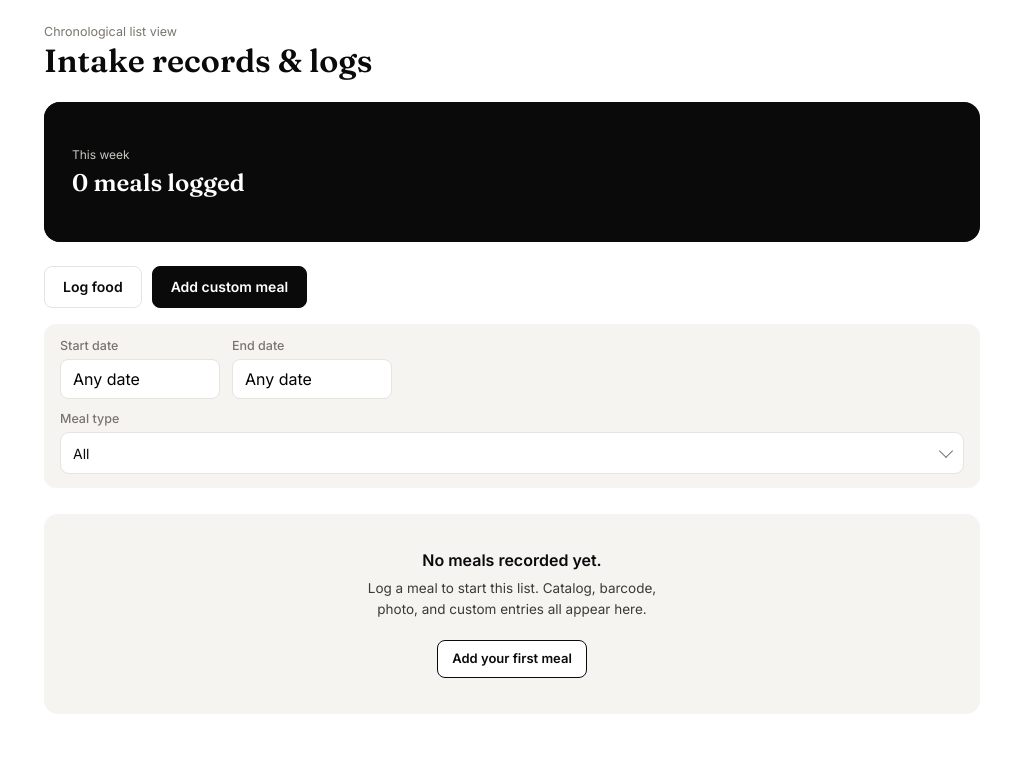
Test: MealsPage › creates a meal successfully
Click the button "Add custom meal" at (229, 287), box [152,266,307,308]
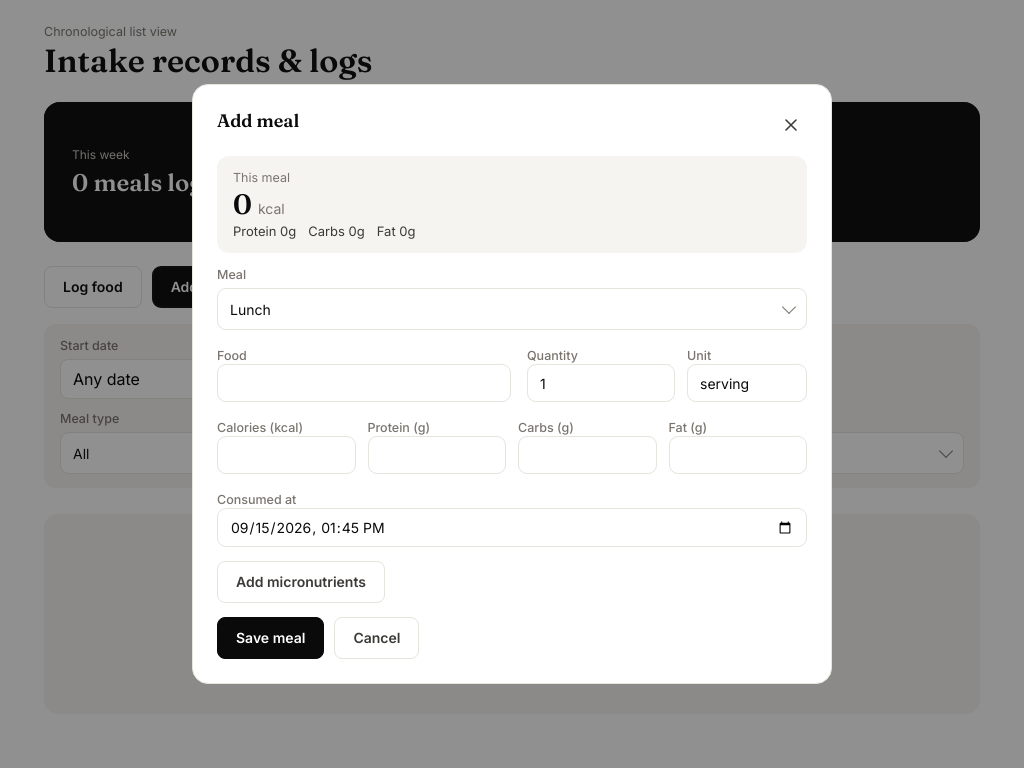
Type "Oatmeal" into the field labelled "Food" at (364, 383), box [217,364,511,402]
Type "320" into the number field labelled "Calories (kcal)" at (286, 455), box [217,436,356,474]
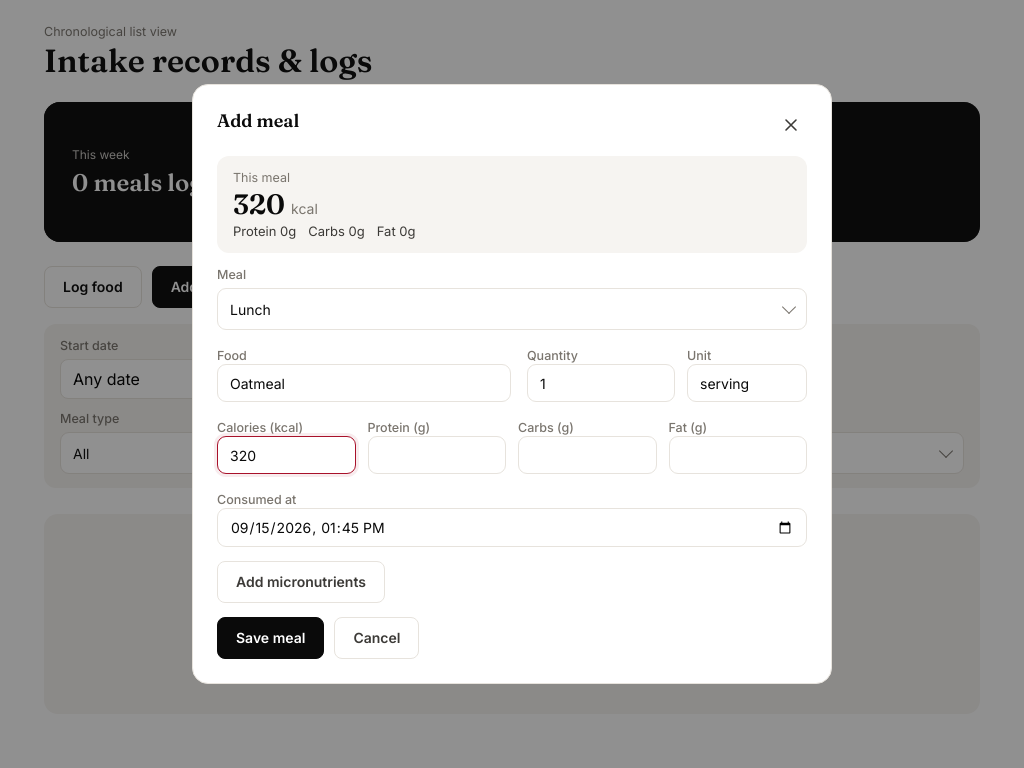
Type "12" into the number field labelled "Protein (g)" at (437, 455), box [368,436,506,474]
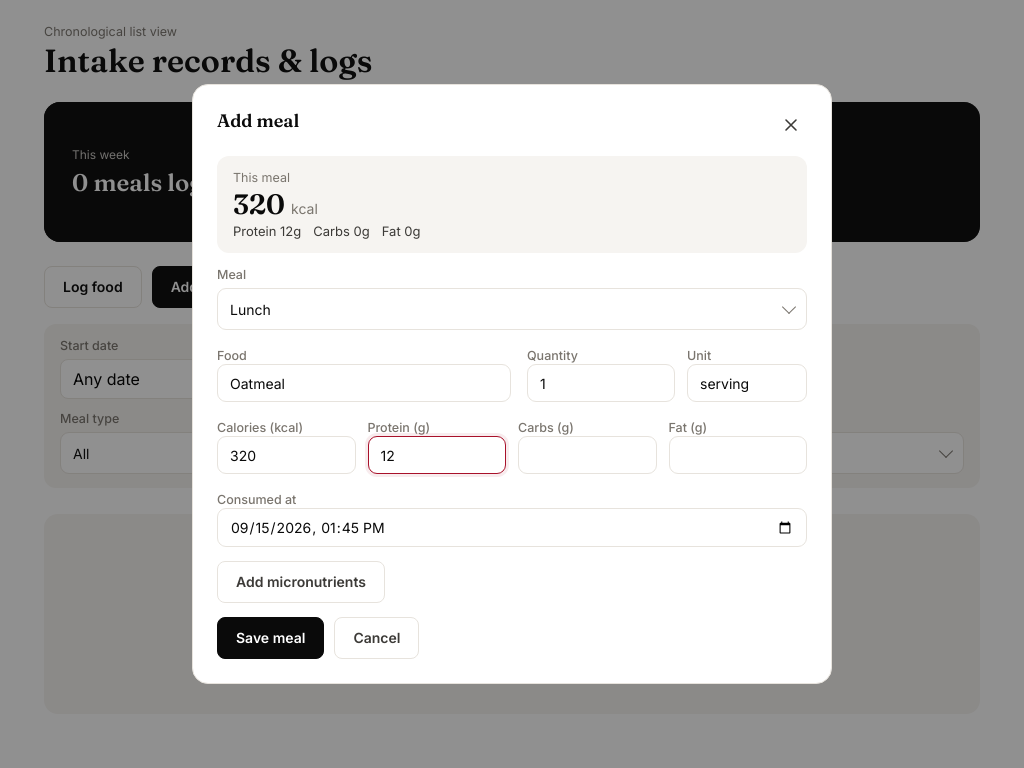
Type "54" into the number field labelled "Carbs (g)" at (587, 455), box [518,436,656,474]
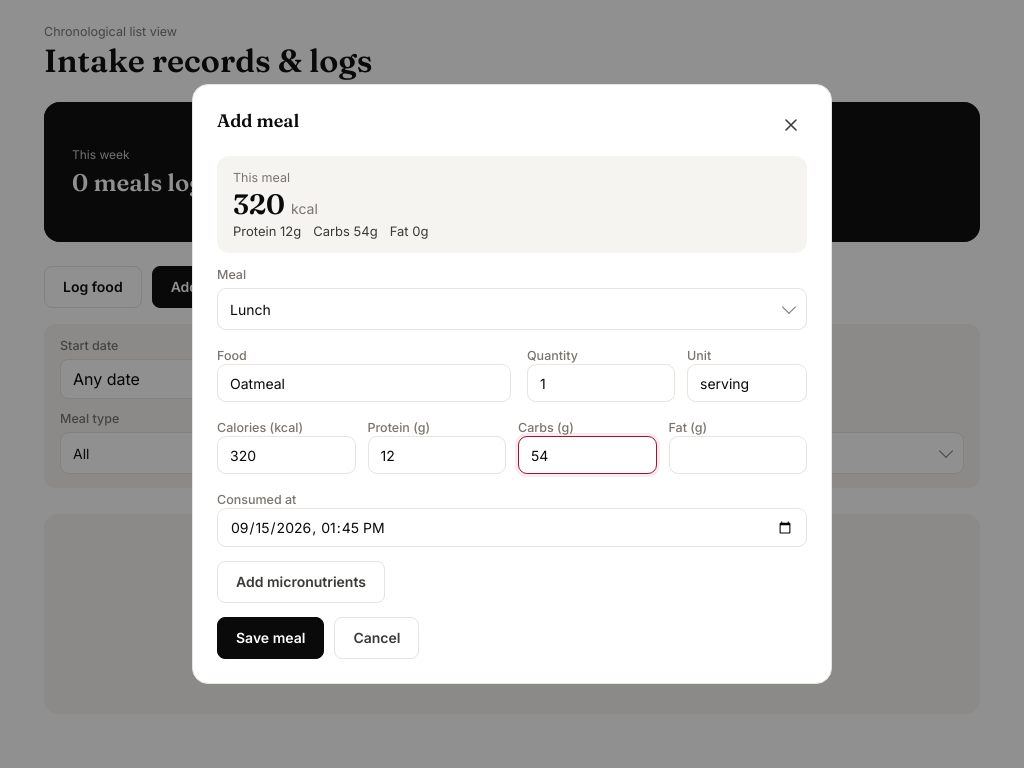
Type "6" into the number field labelled "Fat (g)" at (738, 455), box [668,436,807,474]
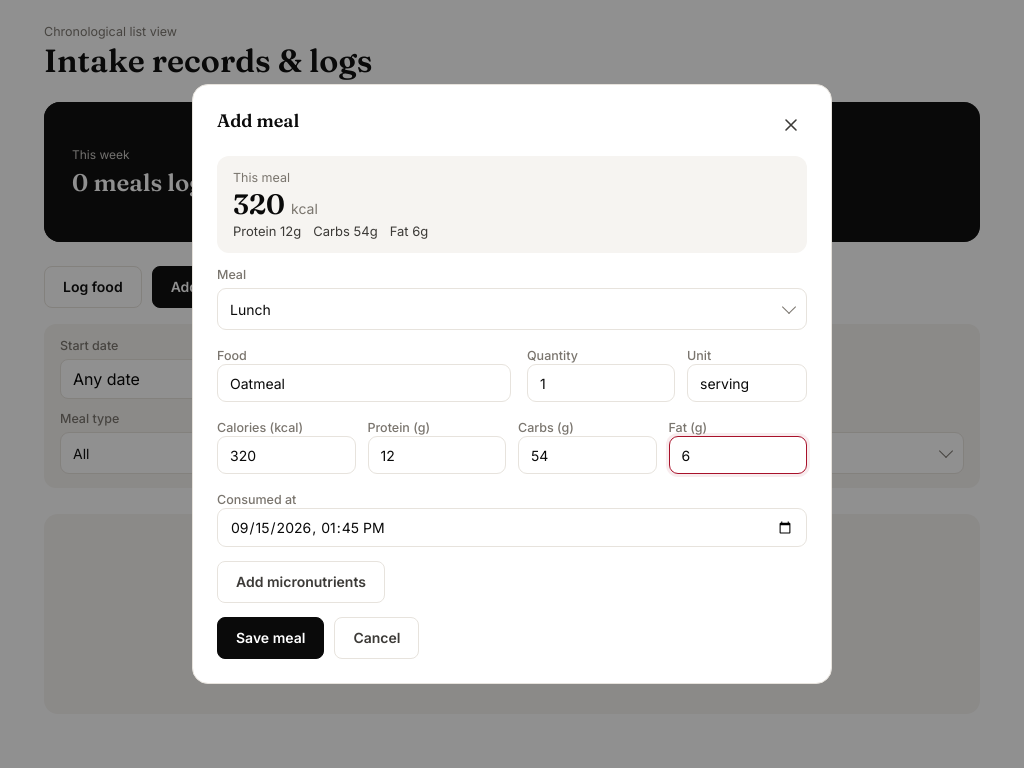
Click the button "Save meal" at (271, 638), box [217,617,324,659]
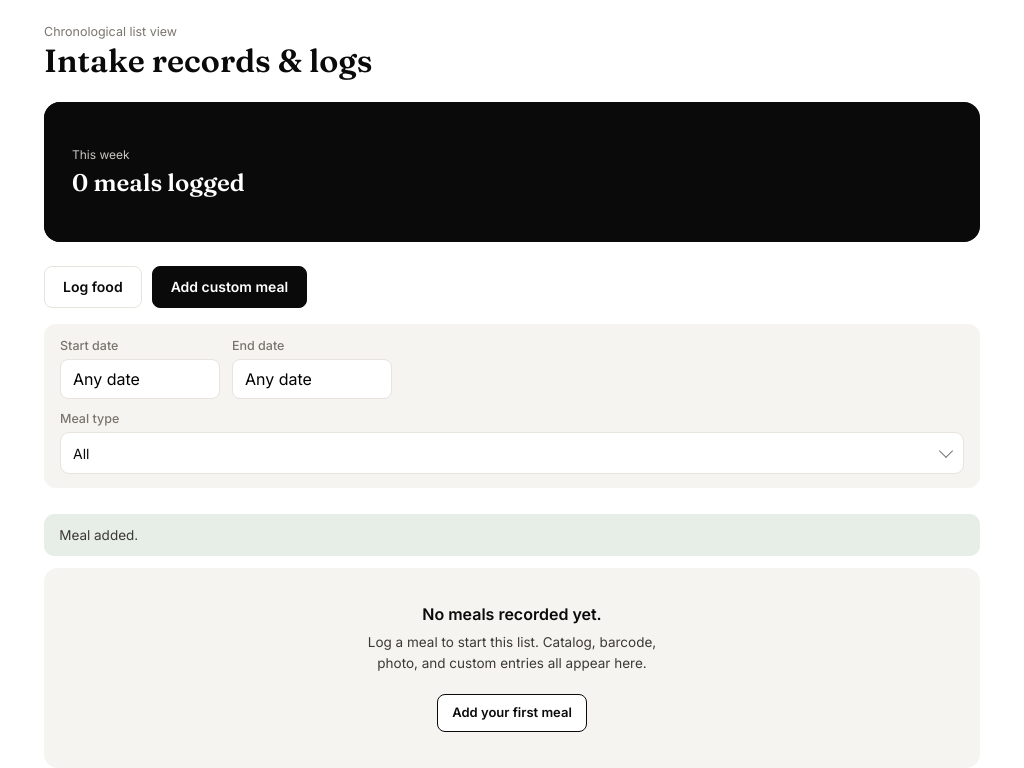
Check: the text "Meal added." is shown, box [44,514,980,556]
